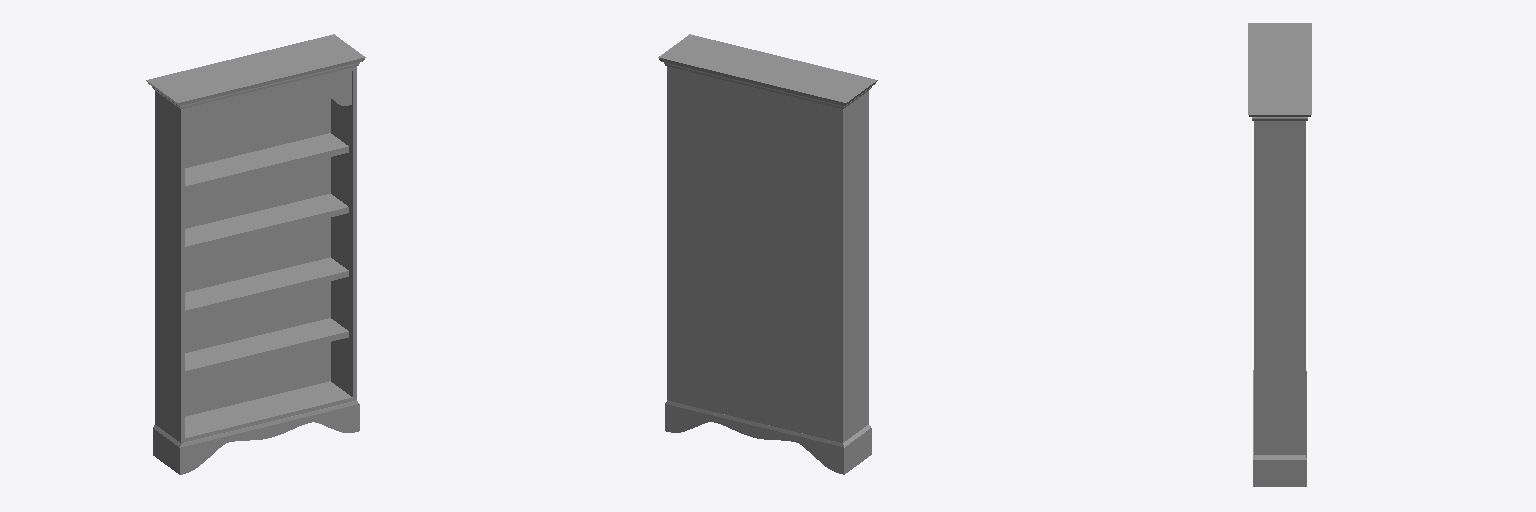
Rendered from library.obj.
3 renders of one model, left to right at view 1: azimuth 30°, elevation 25°; view 2: azimuth 150°, elevation 25°; view 3: azimuth 270°, elevation 25°, orthographic.
Visible parts, largest first — view 1: libreria_Simmetria; view 2: libreria_Simmetria; view 3: libreria_Simmetria.
Part boxes in pixels (bbox=[...]): libreria_Simmetria: bbox=[146, 34, 365, 474]; libreria_Simmetria: bbox=[658, 34, 877, 474]; libreria_Simmetria: bbox=[1248, 23, 1311, 486].
Bounding box in the file's own units: 1.23 × 2.34 × 0.3587.